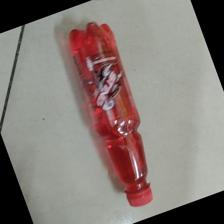Sting: (66, 18, 156, 210)
